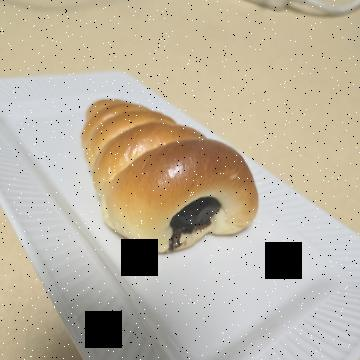cream horn: (79, 99, 267, 300)
